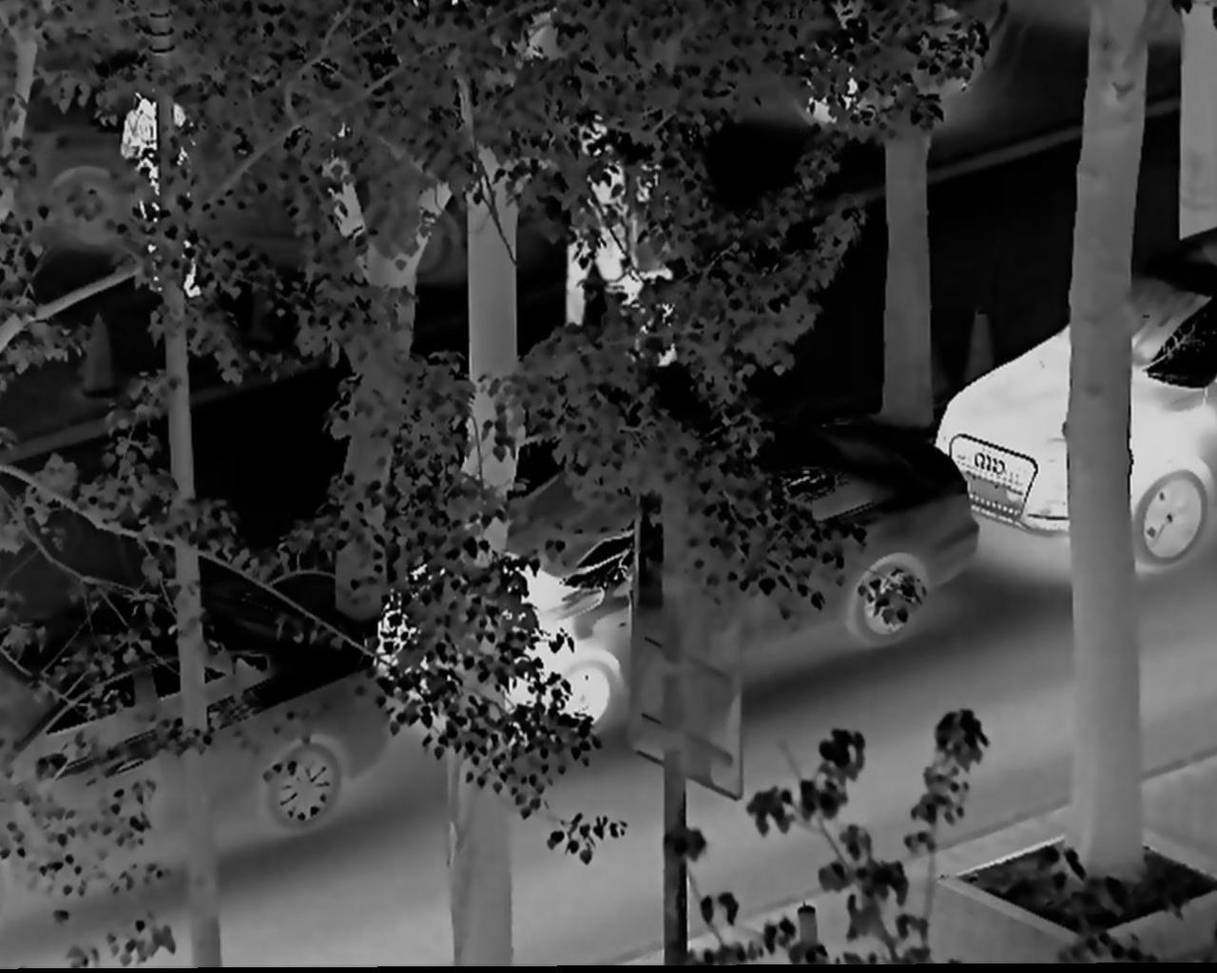person: (118, 86, 200, 311), (571, 101, 629, 345), (618, 162, 681, 378)
